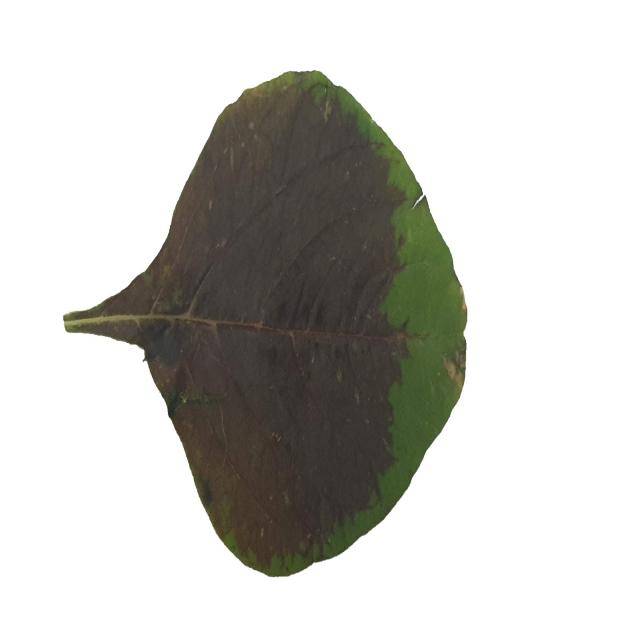Medicinal-Arive Dantu: (61, 64, 468, 575)
